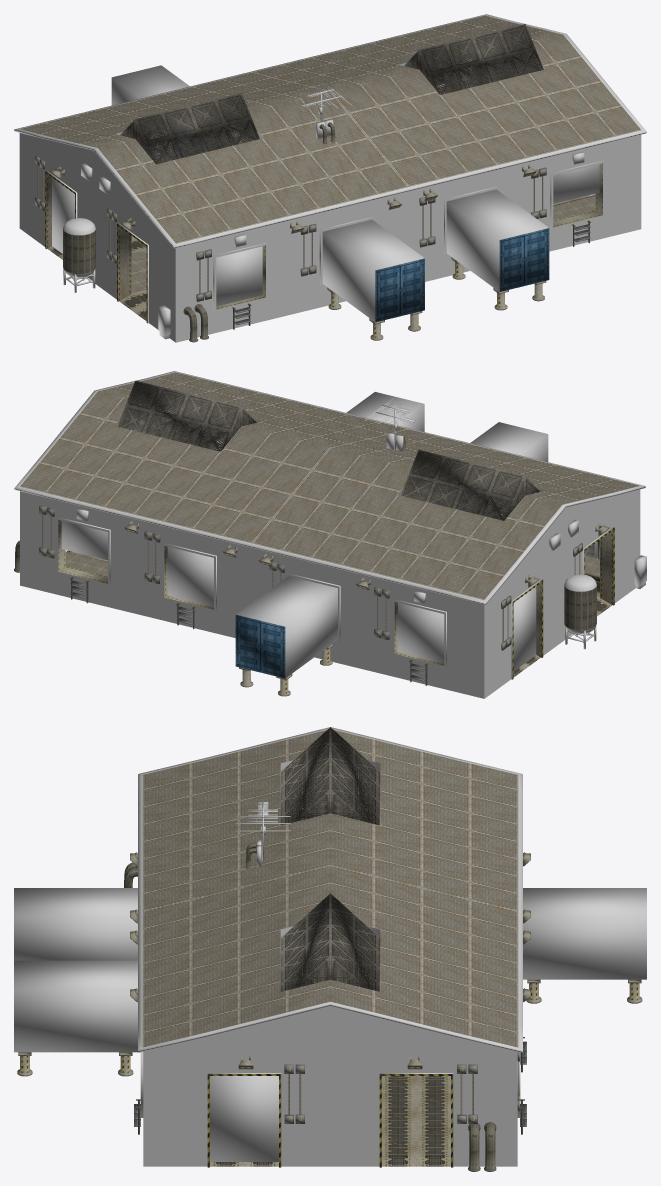
The model's file is building1.fbx.
The picture shows the model from 3 angles, top to bottom: view 1: azimuth 30°, elevation 25°; view 2: azimuth 150°, elevation 25°; view 3: azimuth 270°, elevation 25°; orthographic projection. The views are drawn at different scales.
Visible parts, largest first — view 1: Mesh; view 2: Mesh; view 3: Mesh.
Boxes of the visible parts, x1,y1,x2,y2 form: Mesh: [14, 14, 646, 342]; Mesh: [14, 371, 646, 698]; Mesh: [14, 727, 646, 1171].
Size of the model in its own units: 2901 by 896 by 2575.
